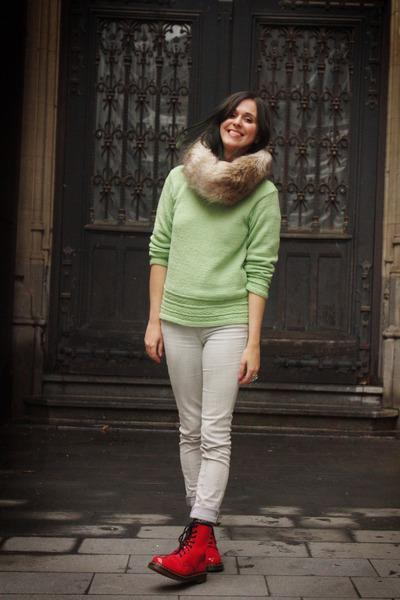jacket: (149, 165, 280, 329)
pants: (159, 318, 244, 521)
shoe: (148, 526, 223, 591)
